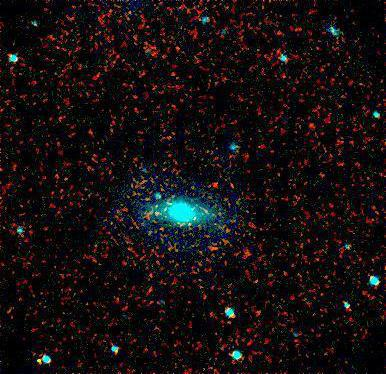star: (182, 203, 212, 233)
